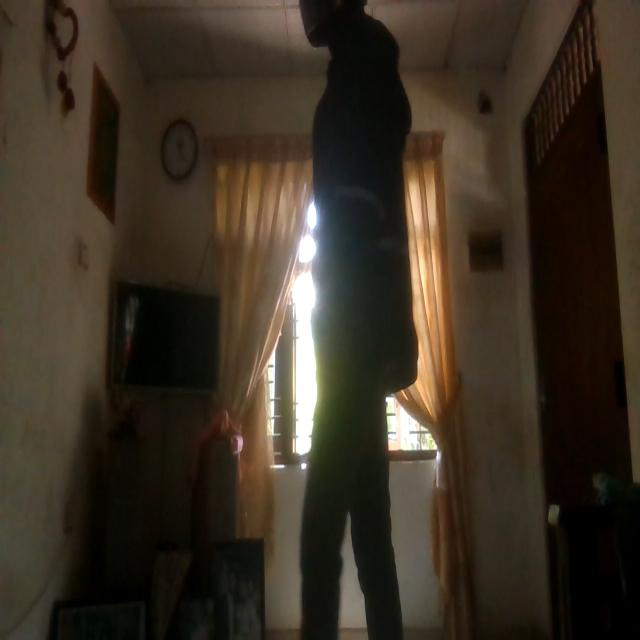Jacket_Wearer: (309, 26, 419, 403)
Person: (281, 0, 436, 640)
